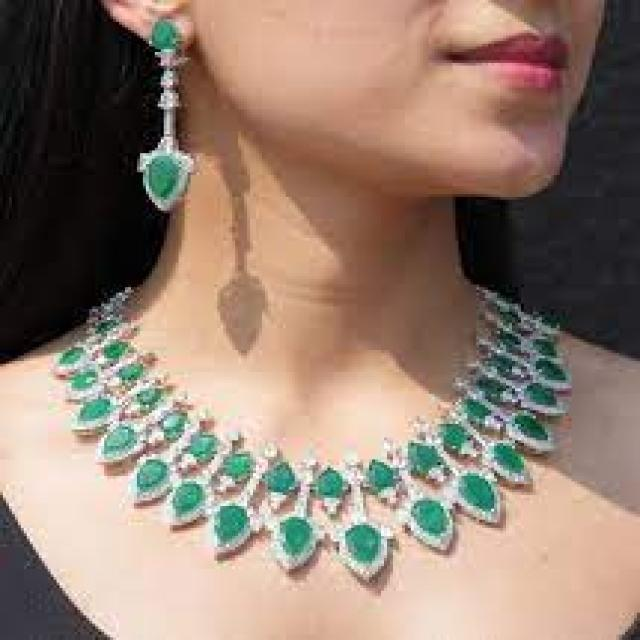Earring: (133, 11, 212, 219)
